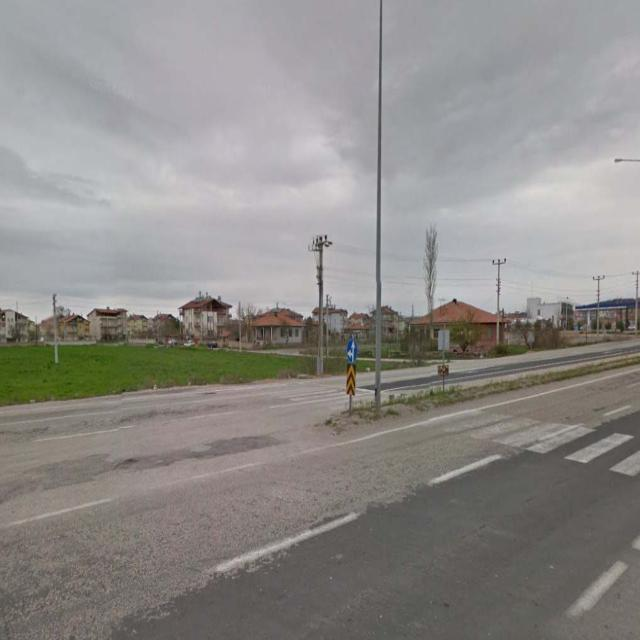ilerisol: (347, 340, 357, 362)
